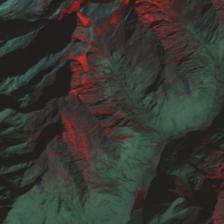landslides: (155, 101, 173, 117), (37, 184, 49, 196)
